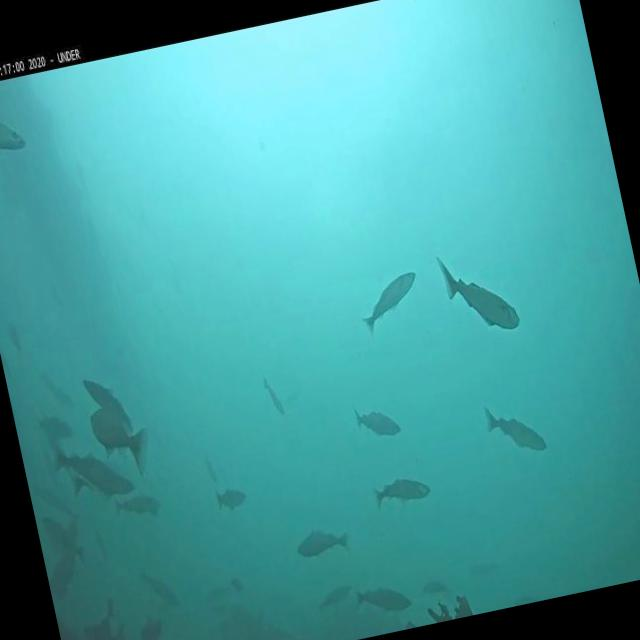fish: (436, 242, 518, 341), (52, 434, 134, 506), (88, 403, 156, 486), (357, 270, 428, 336), (486, 400, 546, 460), (81, 372, 132, 438), (354, 577, 410, 618), (352, 399, 402, 442), (372, 472, 434, 506), (294, 524, 349, 560), (138, 564, 178, 612), (0, 100, 25, 161), (114, 490, 164, 519), (261, 371, 286, 418), (39, 412, 74, 443), (316, 582, 354, 610), (215, 487, 248, 512), (422, 576, 448, 596)
